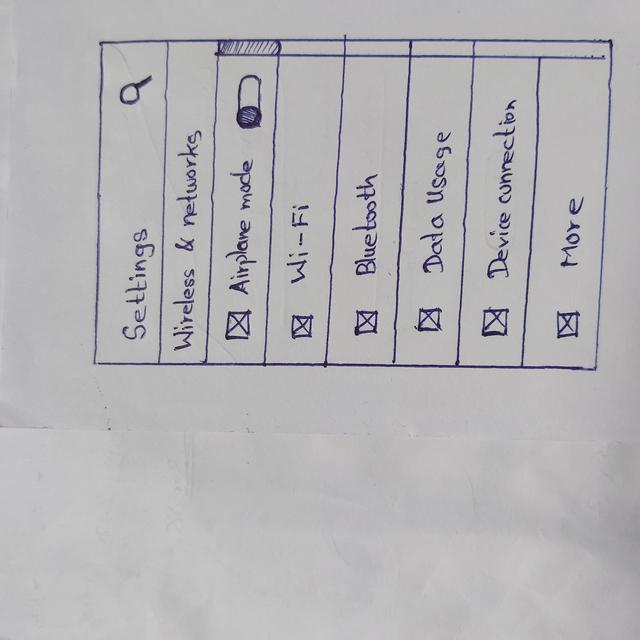ActionButton: (99, 71, 167, 110)
AppBar: (96, 41, 162, 365)
Icon: (120, 74, 151, 105)
Image: (223, 308, 252, 342), (483, 307, 508, 337), (356, 310, 379, 334), (418, 307, 440, 332), (291, 317, 313, 339), (557, 313, 577, 337)
Layout: (529, 59, 602, 369), (466, 57, 533, 366), (338, 58, 402, 364), (402, 55, 464, 366), (211, 56, 271, 363), (275, 59, 334, 366)
ListView: (210, 54, 603, 366)
MainLayout: (94, 37, 609, 368)
ScrollBar: (218, 39, 611, 60)
Switch: (236, 74, 263, 130)
TextView: (175, 130, 194, 352), (425, 133, 446, 276), (493, 102, 510, 276), (124, 230, 146, 336), (355, 177, 379, 273), (234, 160, 251, 295), (287, 203, 307, 280), (563, 199, 578, 269)
VerticalListView: (210, 55, 600, 368)
